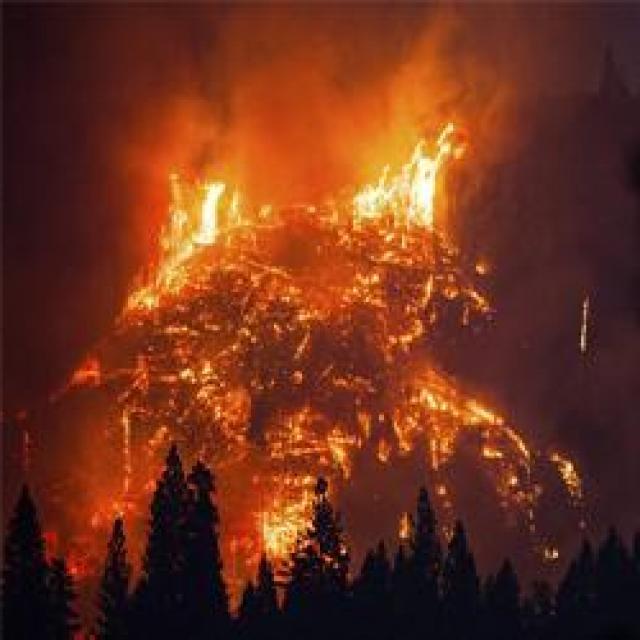fire: (148, 245, 193, 307), (408, 158, 439, 220), (262, 516, 298, 556), (198, 186, 222, 237), (456, 402, 496, 428), (354, 186, 388, 214), (421, 390, 447, 414)
smoke: (197, 0, 366, 100), (40, 8, 172, 118), (228, 60, 344, 180), (566, 132, 639, 282), (380, 1, 472, 109), (118, 74, 212, 170), (598, 328, 639, 510), (472, 62, 530, 172), (338, 89, 404, 162)
